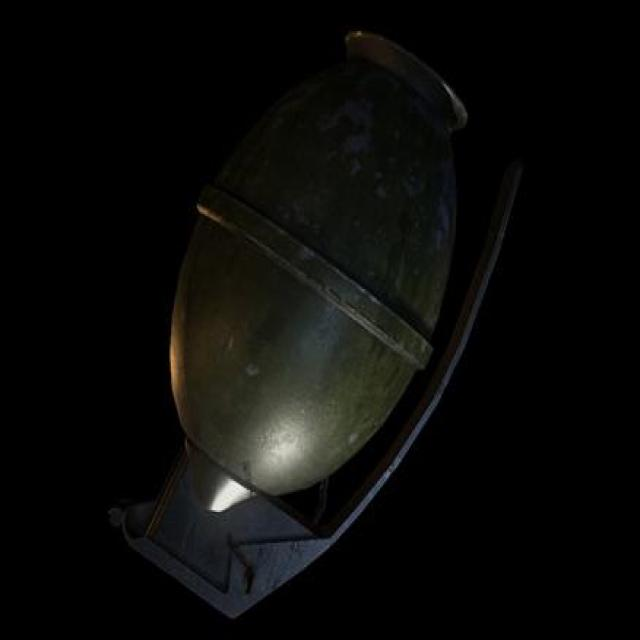grenade: (119, 31, 523, 623)
